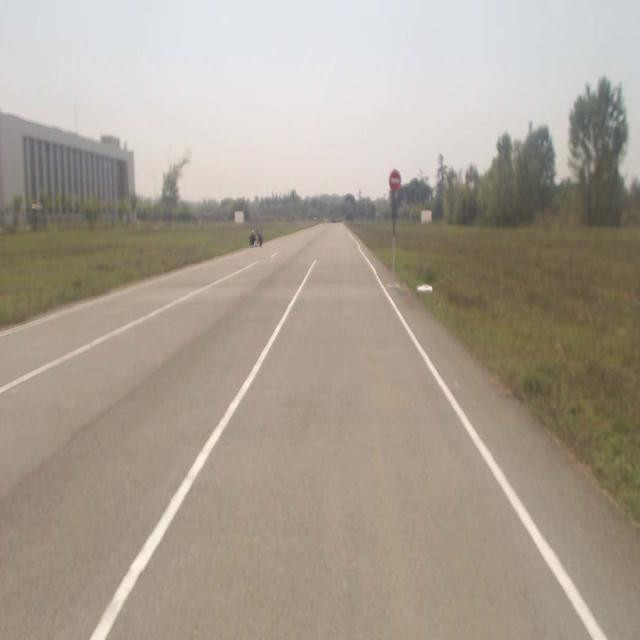girisyok: (390, 171, 402, 192)
